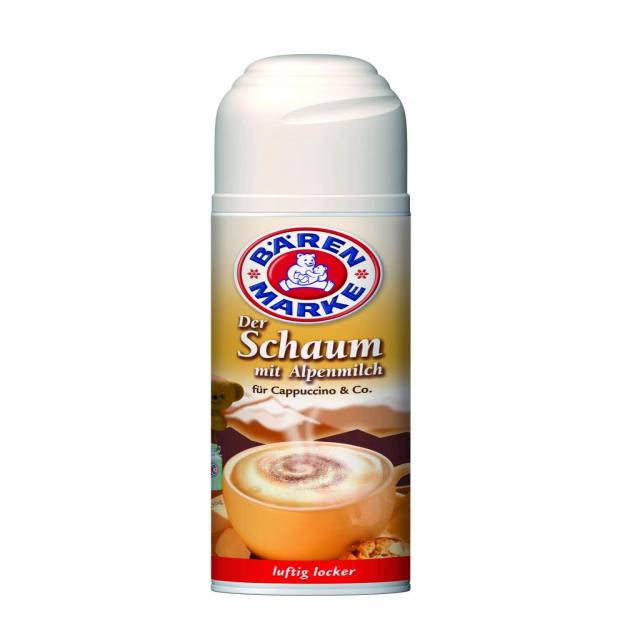Cream: (211, 55, 409, 595)
